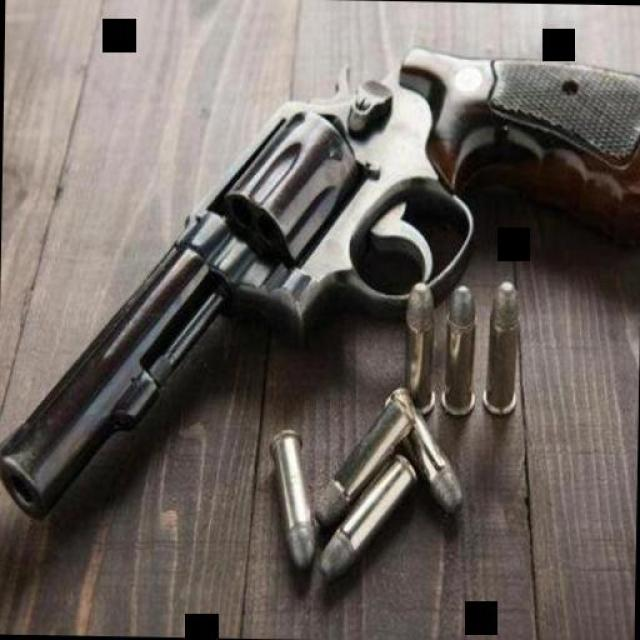gun: (0, 36, 640, 526)
